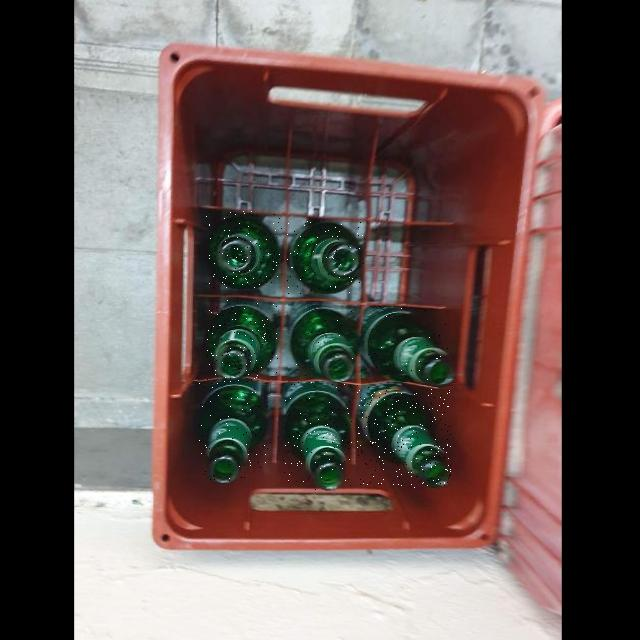glass: (357, 383, 451, 487), (281, 379, 352, 489), (198, 377, 270, 482), (362, 306, 454, 386), (206, 211, 282, 289), (207, 300, 278, 378), (288, 221, 364, 293), (289, 303, 357, 381)
